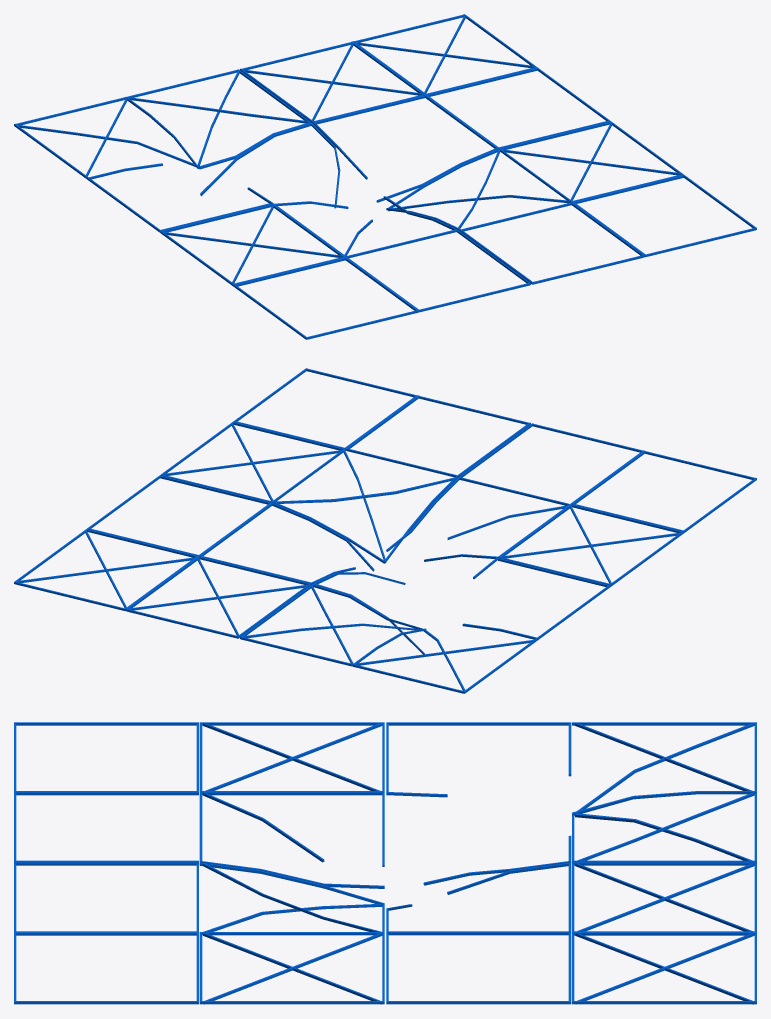
The model's file is W03_Roof_Metal_Break_01.fbx.
3 renders of one model, top to bottom at view 1: azimuth 30°, elevation 25°; view 2: azimuth 150°, elevation 25°; view 3: azimuth 270°, elevation 25°, orthographic. The views are drawn at different scales.
Parts seen in each view (by area): view 1: W03_Roof_Metal_Break_01; view 2: W03_Roof_Metal_Break_01; view 3: W03_Roof_Metal_Break_01.
Part boxes in pixels (x1,y1,x2,y2): W03_Roof_Metal_Break_01: (14, 14, 756, 339); W03_Roof_Metal_Break_01: (14, 368, 756, 693); W03_Roof_Metal_Break_01: (14, 722, 756, 1004).
Bounding box in the file's own units: 4083 × 397 × 4584.
